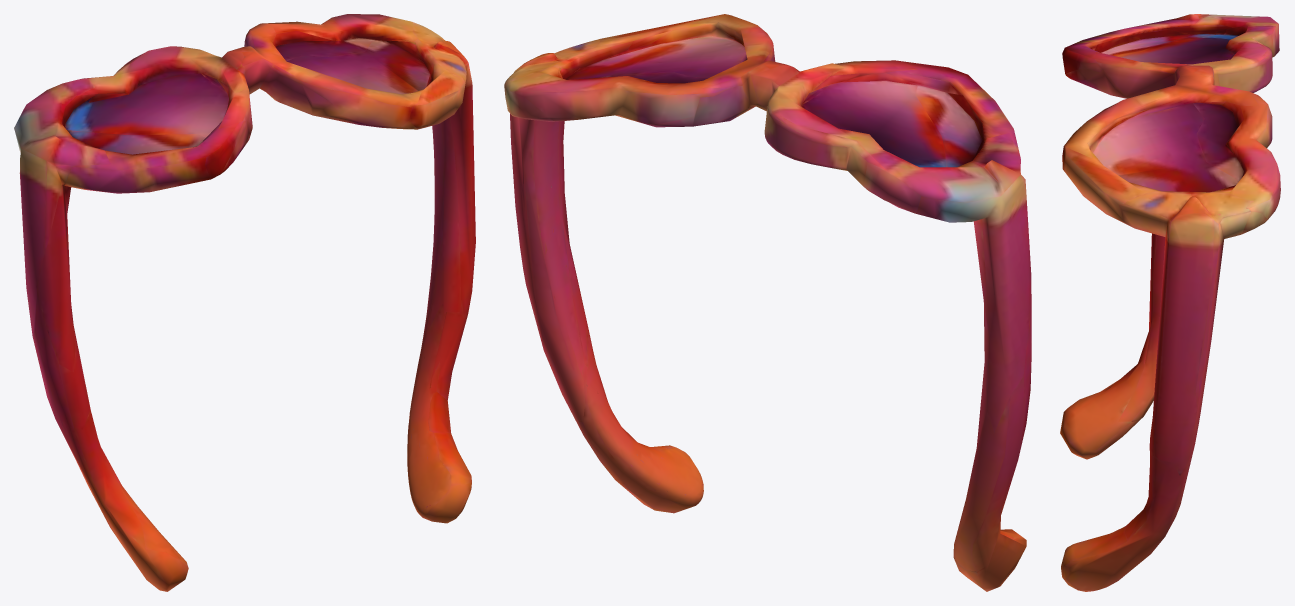
3 renders of one model, left to right at view 1: azimuth 30°, elevation 25°; view 2: azimuth 150°, elevation 25°; view 3: azimuth 270°, elevation 25°, orthographic. The views are drawn at different scales.
Parts seen in each view (by area): view 1: material; view 2: material; view 3: material.
Part boxes in pixels (x1=…): material: x1=14, y1=14, x2=475, y2=591; material: x1=504, y1=14, x2=1031, y2=591; material: x1=1060, y1=14, x2=1280, y2=591.
Bounding box in the file's own units: 0.9905 × 1 × 0.441.
Materials: 1 (1 with a texture image).
